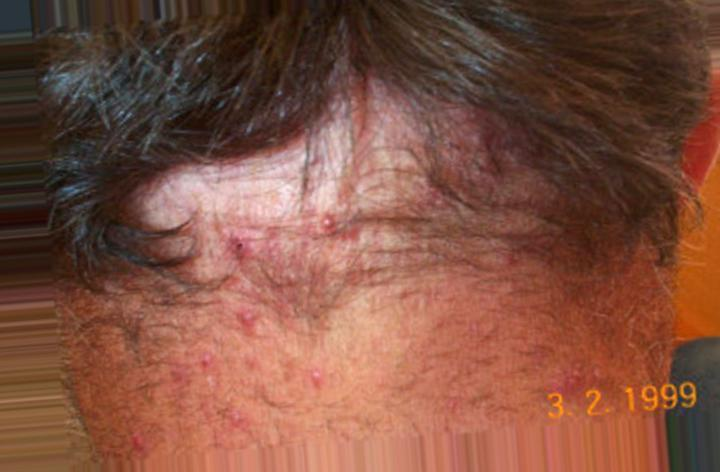Folliculitis: (164, 125, 518, 391)
